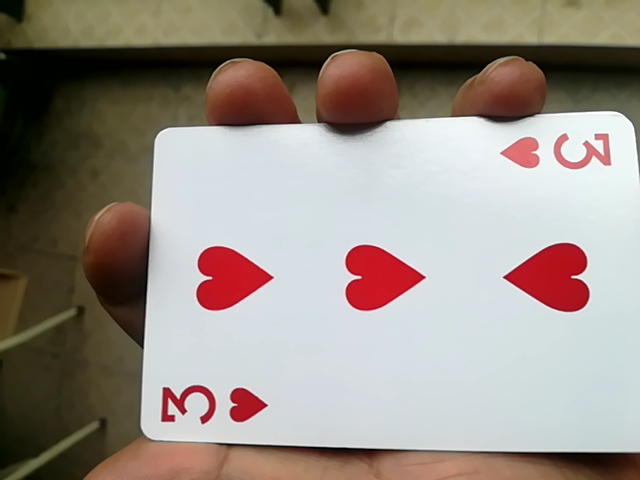hx 3: (124, 117, 633, 467)
